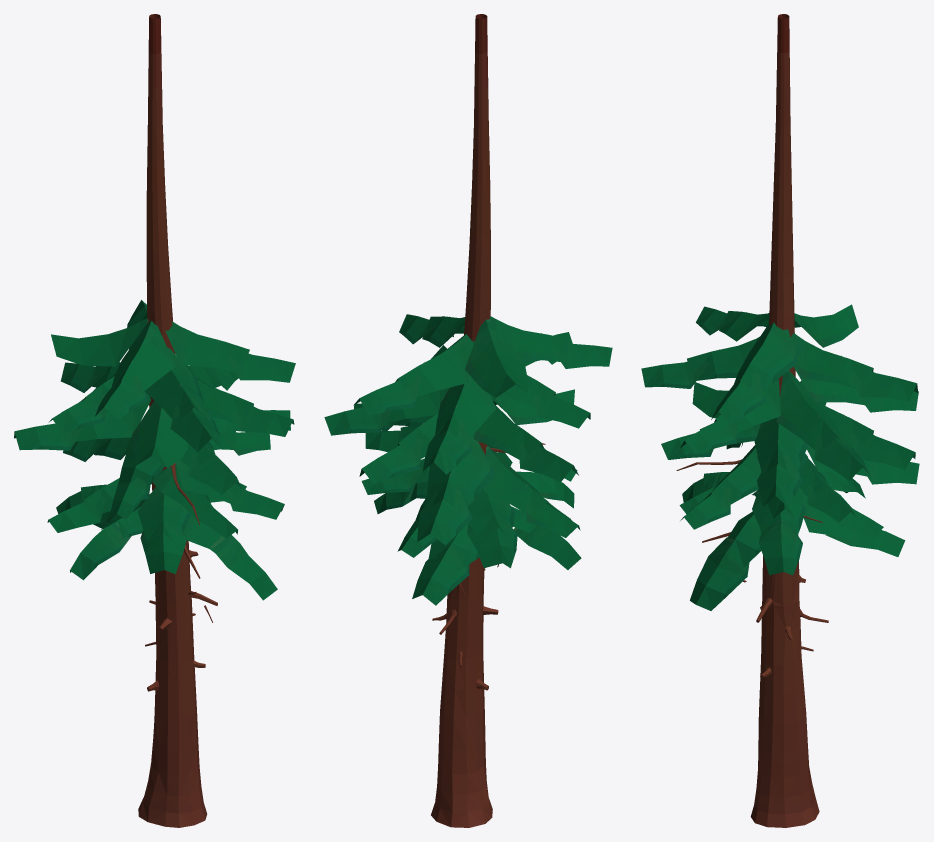
File: Dynamic_Tree_04.fbx
3 renders of one model, left to right at view 1: azimuth 30°, elevation 25°; view 2: azimuth 150°, elevation 25°; view 3: azimuth 270°, elevation 25°, orthographic.
Visible parts, largest first — view 1: SM_Tree_04_Dynamic.mo; view 2: SM_Tree_04_Dynamic.mo; view 3: SM_Tree_04_Dynamic.mo.
Part boxes in pixels (x1=…): SM_Tree_04_Dynamic.mo: x1=14, y1=14, x2=295, y2=827; SM_Tree_04_Dynamic.mo: x1=324, y1=14, x2=612, y2=827; SM_Tree_04_Dynamic.mo: x1=641, y1=14, x2=919, y2=827.
Bounding box in the file's own units: 585 × 1810 × 578.
